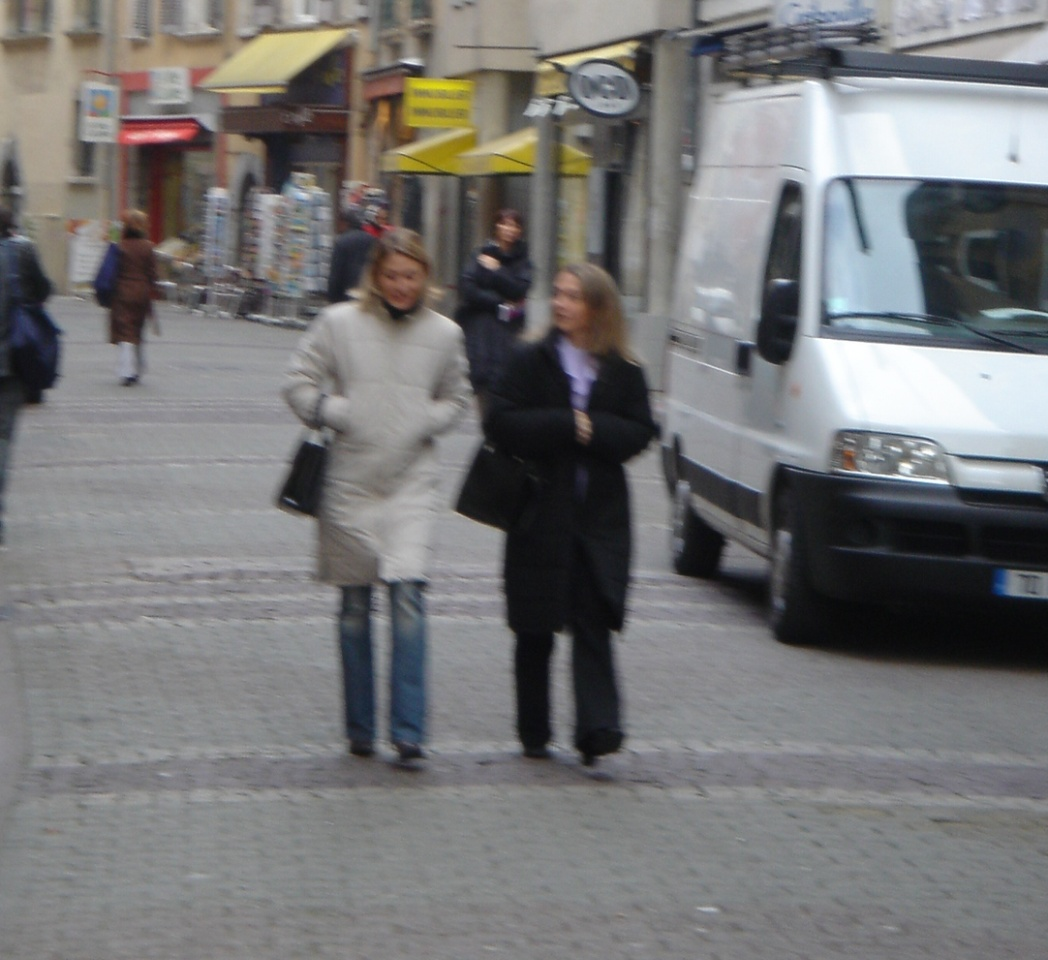person: (311, 226, 467, 767), (499, 260, 642, 768), (101, 209, 161, 384)
